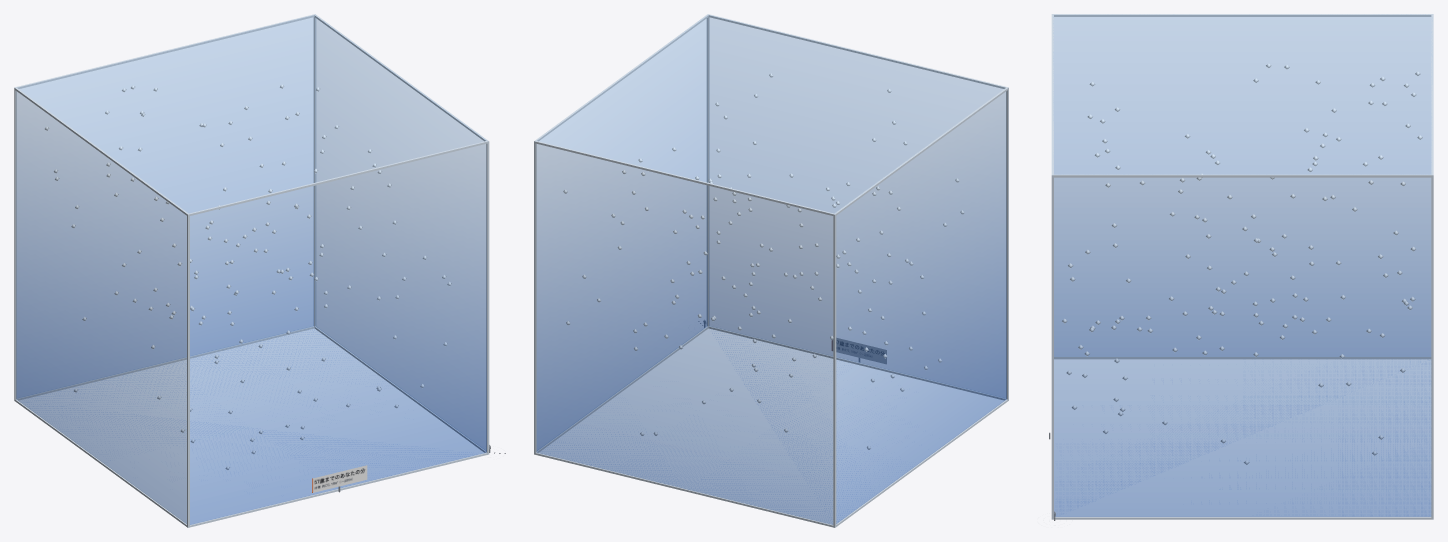
Rendered from cube_life_57.glb.
The picture shows the model from 3 angles, left to right: view 1: azimuth 30°, elevation 25°; view 2: azimuth 150°, elevation 25°; view 3: azimuth 270°, elevation 25°; orthographic projection. The views are drawn at different scales.
Visible parts, largest first — view 1: co2, edge, dots, label; view 2: co2, edge, dots, label; view 3: co2, edge, dots.
Boxes of the visible parts, <box> form: co2: <box>16,15,486,524</box>; edge: <box>14,14,489,527</box>; dots: <box>45,84,451,470</box>; label: <box>312,465,367,492</box>; co2: <box>536,15,1006,524</box>; edge: <box>534,14,1008,527</box>; dots: <box>563,73,964,449</box>; label: <box>832,338,886,363</box>; co2: <box>1053,15,1432,516</box>; edge: <box>1051,14,1433,519</box>; dots: <box>1062,63,1422,464</box>.
Bounding box in the file's own units: 68.57 × 64.81 × 67.67.
Materials: 8 (3 with a texture image).
